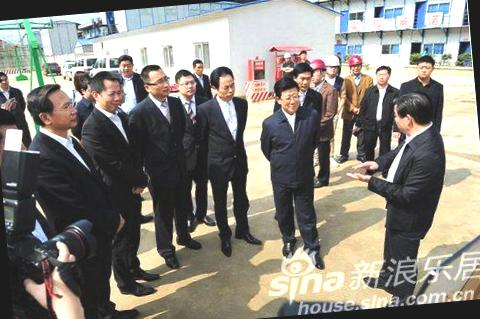no_helmet: (22, 78, 80, 132), (384, 91, 439, 137), (90, 66, 128, 113), (209, 62, 245, 106), (136, 60, 173, 100), (272, 74, 300, 114), (172, 66, 200, 98), (290, 61, 313, 94), (414, 52, 437, 84), (373, 62, 394, 89), (78, 74, 97, 102), (115, 50, 136, 74), (191, 54, 208, 74), (0, 69, 11, 89)
